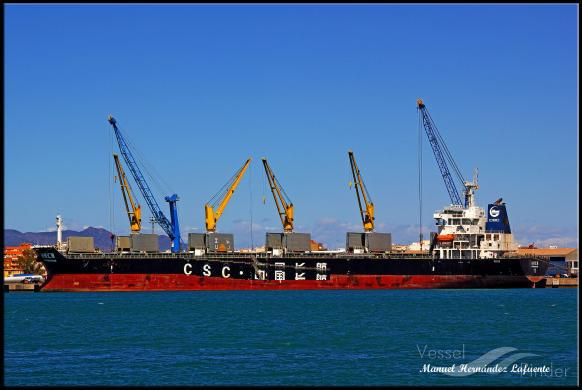OCR: (177, 256, 330, 280)
